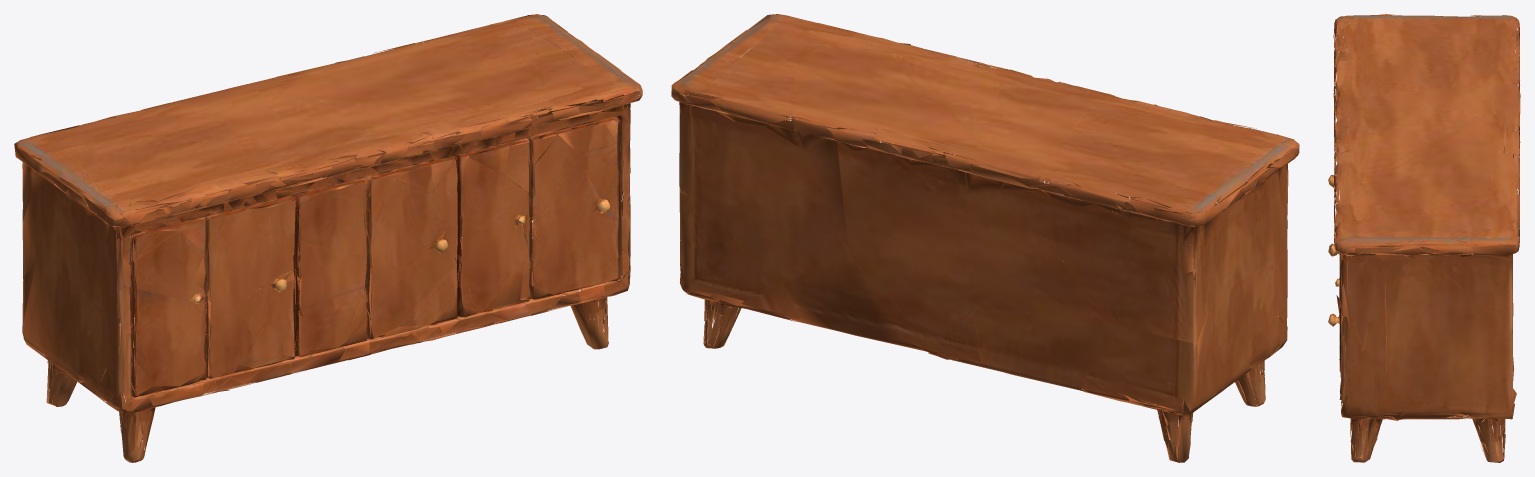
Rendered from sideboard.glb.
The picture shows the model from 3 angles, left to right: view 1: azimuth 30°, elevation 25°; view 2: azimuth 150°, elevation 25°; view 3: azimuth 270°, elevation 25°; orthographic projection. The views are drawn at different scales.
Parts seen in each view (by area): view 1: sideboard; view 2: sideboard; view 3: sideboard.
Part boxes in pixels (box(x1,y1,x2,y2)): sideboard: box(14, 14, 642, 462); sideboard: box(671, 14, 1299, 462); sideboard: box(1328, 14, 1520, 462).
Size of the model in its own units: 2.39 by 1.13 by 0.8458.
1 material, 1 textured.
